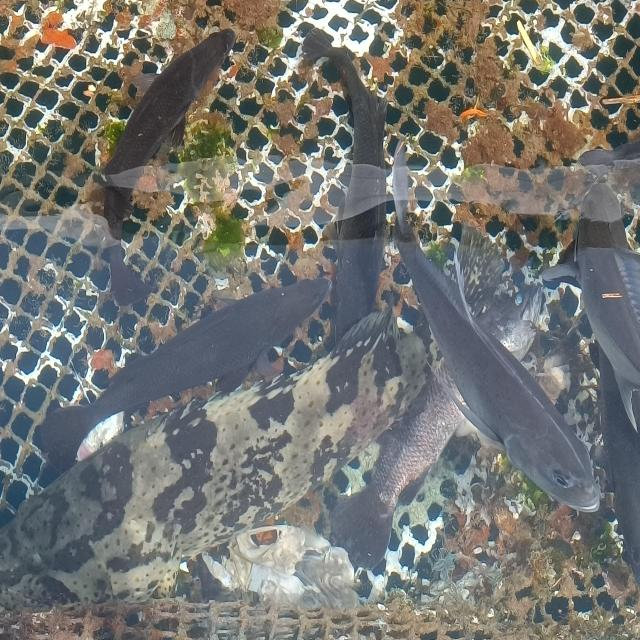ikan: (388, 135, 602, 516), (31, 274, 333, 472), (100, 26, 237, 306), (541, 182, 639, 434)
